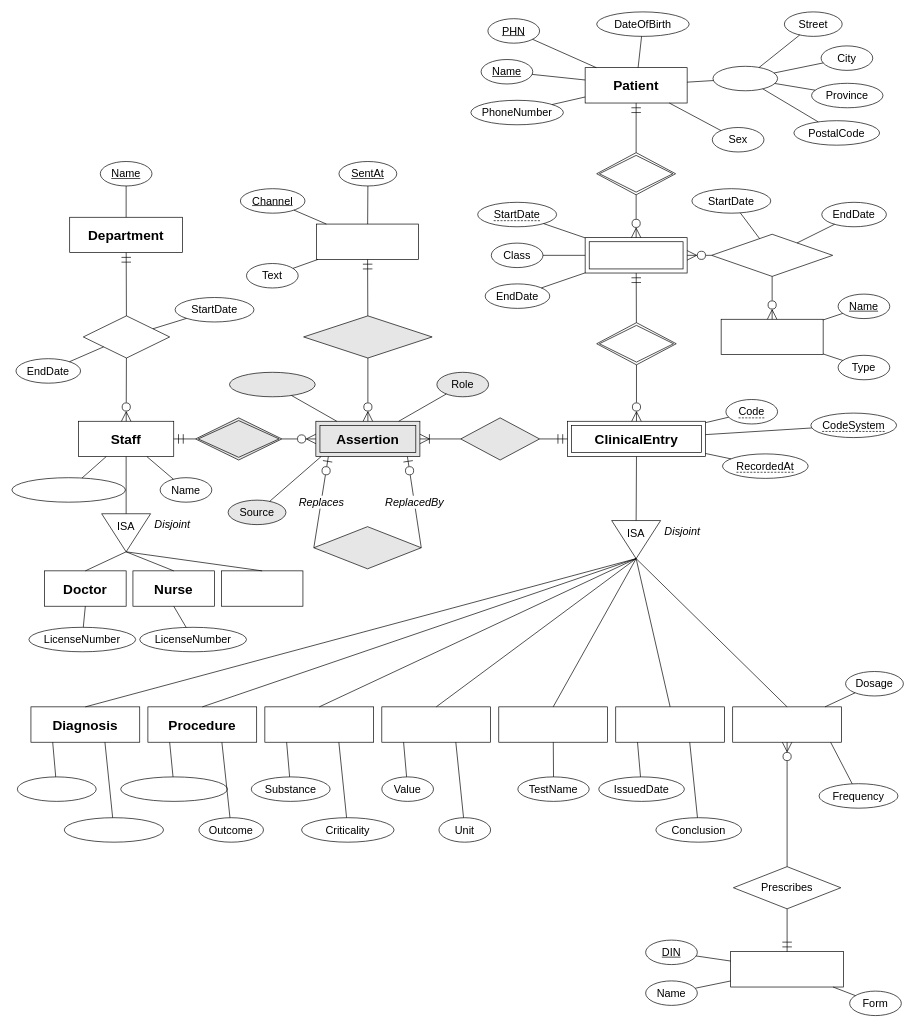
The diagram is 915 pixels wide and 1027 high, and some of its shapes have lost their labels. Here are the shapes that lost their labels. From the top down, the box of each, then its label:
(712, 66, 778, 91): Address
(596, 152, 676, 195): Has
(316, 223, 419, 259): Message
(584, 237, 687, 273): Visit
(711, 234, 833, 276): TakesPlaceIn
(83, 315, 170, 358): WorksIn
(303, 315, 432, 358): ExtractedFrom
(596, 322, 676, 365): During
(720, 319, 823, 355): Location
(229, 372, 315, 397): AssertedAt
(195, 417, 282, 460): Asserts
(460, 417, 540, 460): About
(11, 477, 125, 502): EmployeeNumber
(313, 526, 421, 569): Supersedes
(221, 570, 303, 606): MOA
(264, 706, 374, 742): Allergy
(381, 706, 491, 742): Observation
(498, 706, 608, 742): LabOrder
(615, 706, 725, 742): LabReport
(732, 706, 842, 742): Prescription
(17, 776, 96, 801): OnsetDate
(120, 776, 227, 801): PerformedDate
(64, 817, 164, 842): Verification
(730, 951, 844, 987): Medication
